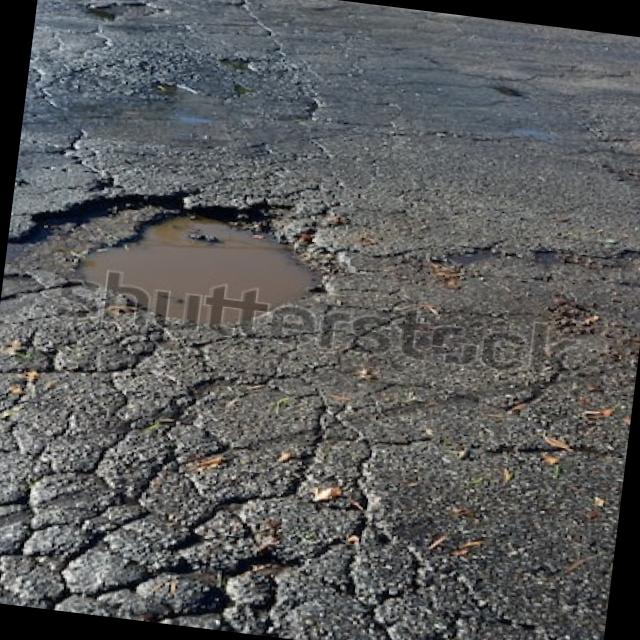Potholes: (2, 156, 402, 374), (64, 0, 179, 36)
